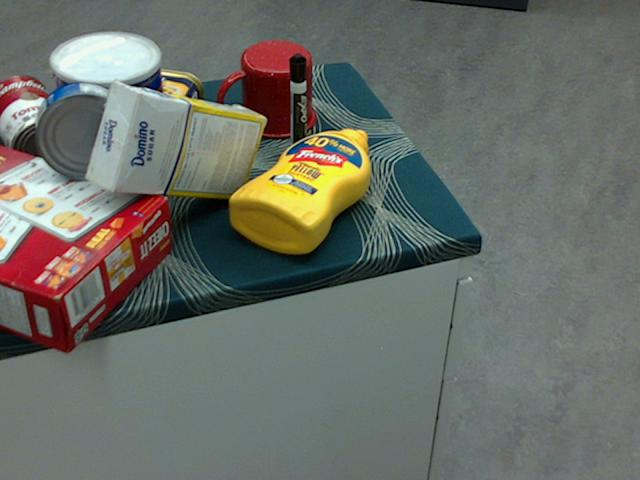cracker_box: (0, 145, 171, 349)
large_marker: (288, 53, 307, 158)
master_chef_can: (51, 33, 167, 205)
mug: (215, 41, 315, 139)
mustard_bottle: (229, 127, 371, 253)
potted_meat_can: (94, 65, 203, 152)
sugar_box: (86, 84, 265, 198)
tomato_soup_can: (0, 73, 75, 173)
tuna_fish_can: (35, 82, 133, 180)
